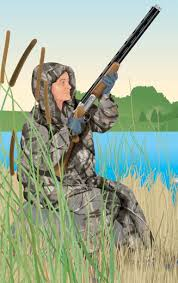Gun: (87, 3, 157, 126)
